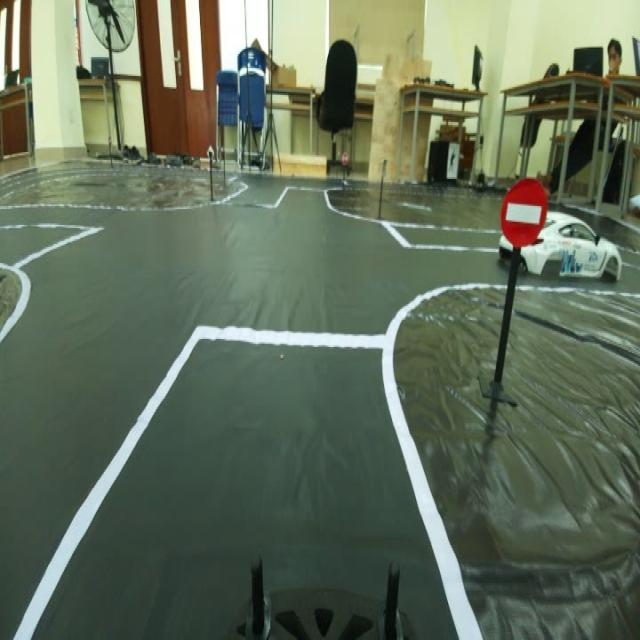no_entry: (498, 177, 552, 252)
